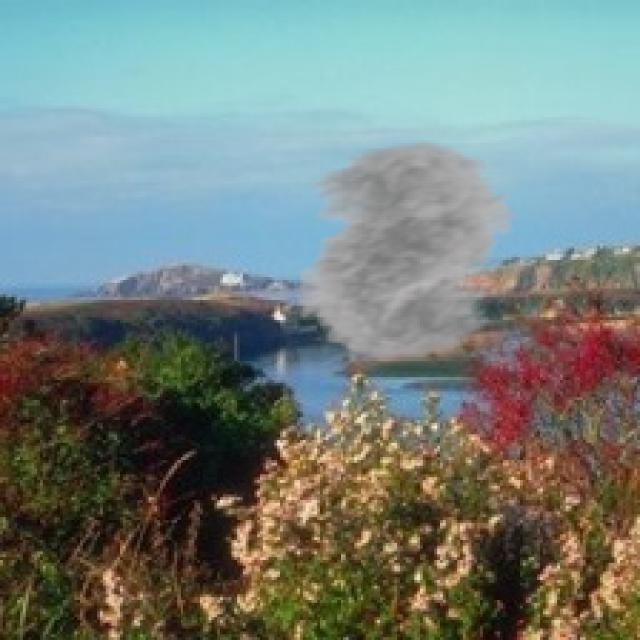smoke: (266, 140, 537, 363)
